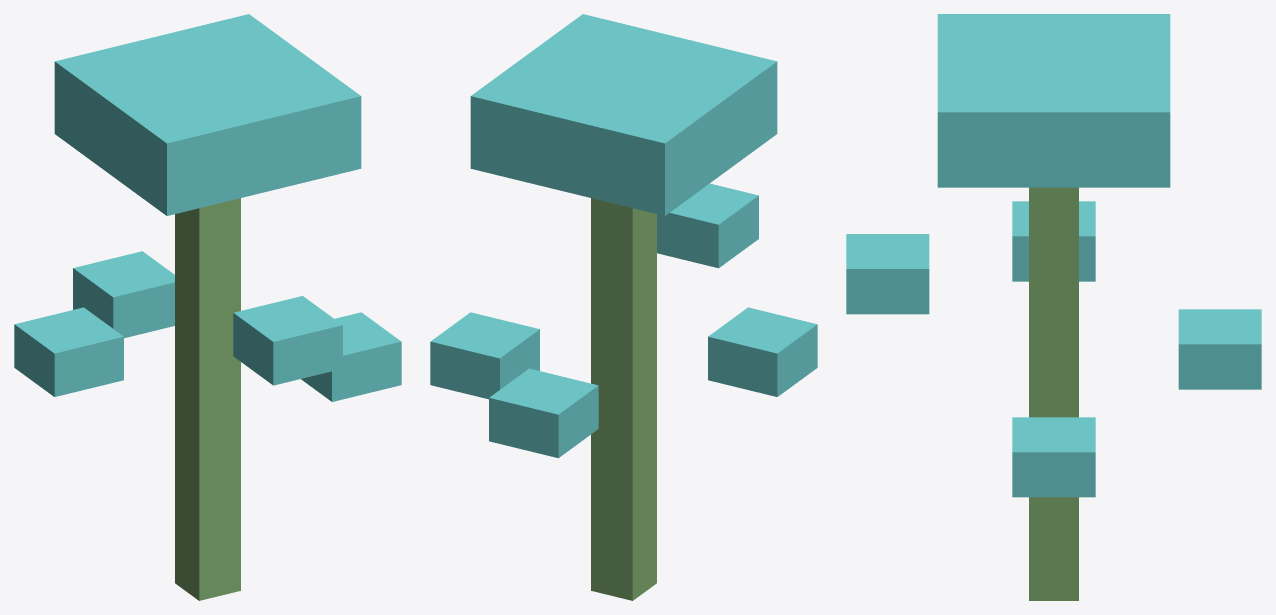
File: Prop_DS_Herb_ChecksumClover_S3_V1.glb
The picture shows the model from 3 angles, left to right: view 1: azimuth 30°, elevation 25°; view 2: azimuth 150°, elevation 25°; view 3: azimuth 270°, elevation 25°; orthographic projection. The views are drawn at different scales.
Parts seen in each view (by area): view 1: Cube.005, Cube, Cube.004, Cube.003, Cube.002, Cube.001; view 2: Cube.005, Cube, Cube.003, Cube.002, Cube.001, Cube.004; view 3: Cube.005, Cube, Cube.001, Cube.002, Cube.004, Cube.003.
Boxes of the visible parts, x1,y1,x2,y2 form: Cube.005: [54, 14, 361, 215]; Cube: [175, 198, 240, 600]; Cube.004: [233, 296, 342, 385]; Cube.003: [14, 307, 123, 396]; Cube.002: [73, 251, 174, 338]; Cube.001: [301, 312, 401, 401]; Cube.005: [470, 14, 777, 215]; Cube: [591, 198, 656, 600]; Cube.003: [708, 307, 817, 396]; Cube.002: [489, 368, 598, 458]; Cube.001: [430, 312, 539, 399]; Cube.004: [657, 183, 758, 268]; Cube.005: [937, 14, 1170, 187]; Cube: [1029, 187, 1078, 600]; Cube.001: [1012, 417, 1095, 497]; Cube.002: [1178, 309, 1261, 389]; Cube.004: [846, 234, 929, 314]; Cube.003: [1012, 201, 1095, 281].
Size of the model in its own units: 0.5 by 0.7 by 0.5.
